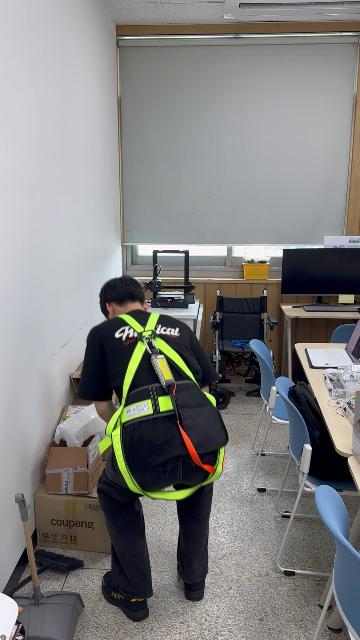helmet_not_worn: (96, 275, 149, 313)
shoe_worn: (101, 572, 149, 622), (182, 574, 206, 602)
vest_worn: (102, 313, 227, 499)
